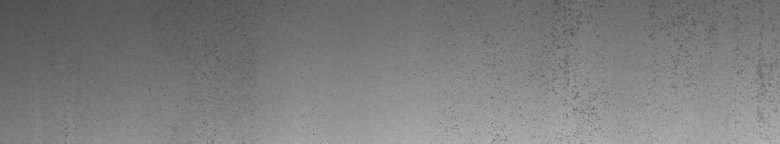ib: (487, 4, 608, 136)
